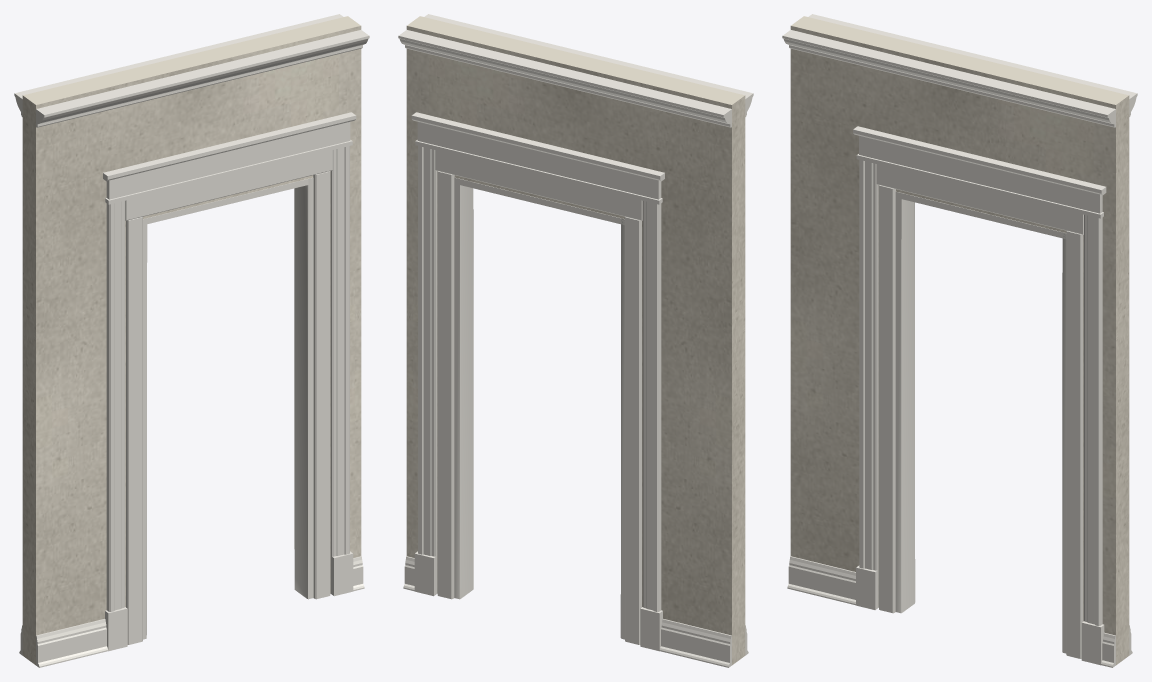
File: interior_wall_end_doorway.glb
The picture shows the model from 3 angles, left to right: view 1: azimuth 30°, elevation 25°; view 2: azimuth 150°, elevation 25°; view 3: azimuth 330°, elevation 25°; orthographic projection.
Parts seen in each view (by area): view 1: interior_wall_end_doorway_plaster, molduras, interior_wall_end_doorway_frame; view 2: interior_wall_end_doorway_plaster, molduras, interior_wall_end_doorway_frame; view 3: interior_wall_end_doorway_plaster, molduras, interior_wall_end_doorway_frame.
Part boxes in pixels (x1=…): interior_wall_end_doorway_plaster: x1=22, y1=16, x2=361, y2=665; molduras: x1=14, y1=14, x2=369, y2=667; interior_wall_end_doorway_frame: x1=125, y1=150, x2=332, y2=644; interior_wall_end_doorway_plaster: x1=406, y1=16, x2=745, y2=665; molduras: x1=398, y1=14, x2=753, y2=667; interior_wall_end_doorway_frame: x1=435, y1=150, x2=642, y2=644; interior_wall_end_doorway_plaster: x1=790, y1=16, x2=1129, y2=665; molduras: x1=782, y1=14, x2=1137, y2=667; interior_wall_end_doorway_frame: x1=876, y1=164, x2=1083, y2=658.
Bounding box in the file's own units: 1.7 × 2.8 × 0.27.
Materials: 3 (1 with a texture image).
